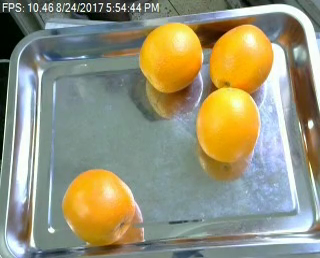Orange: (60, 168, 136, 245), (196, 85, 260, 165), (138, 21, 204, 92), (208, 22, 273, 94)
